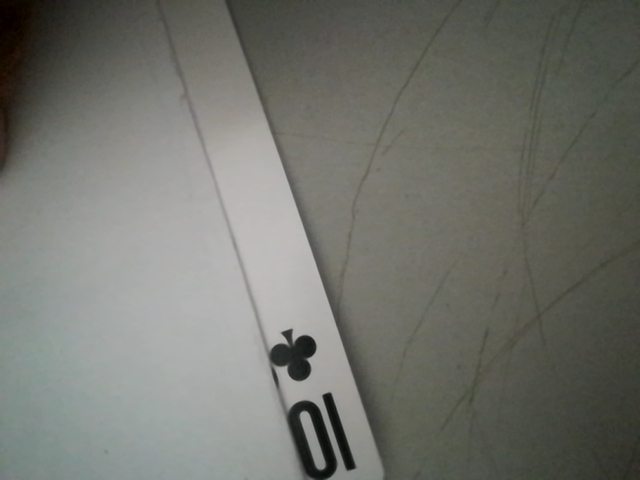mh 10: (250, 312, 379, 479)
